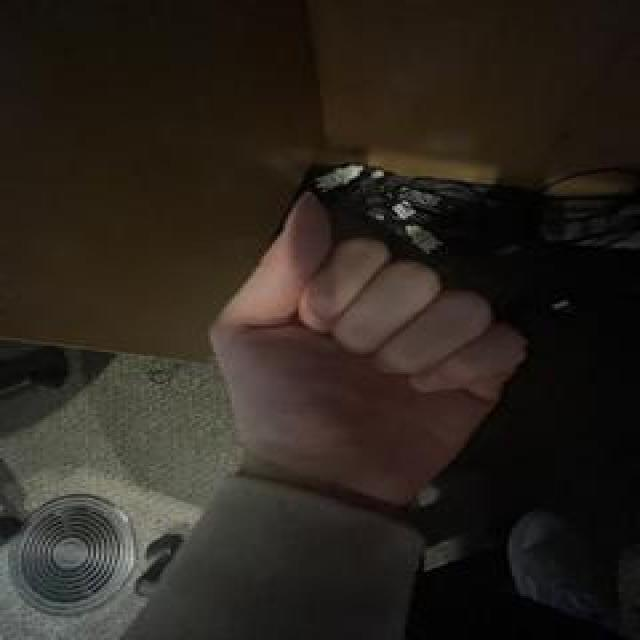A: (201, 188, 527, 484)
